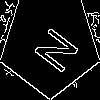N: (25, 19, 81, 76)
